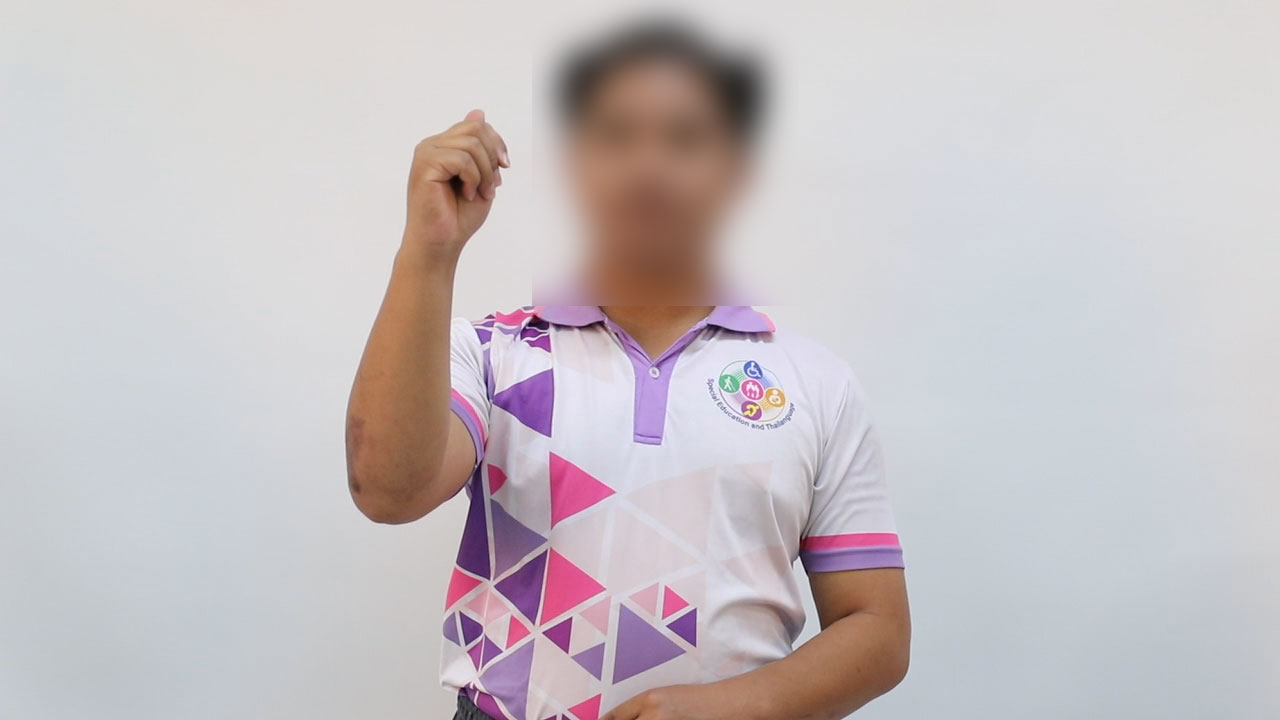tor: (380, 101, 543, 269)
